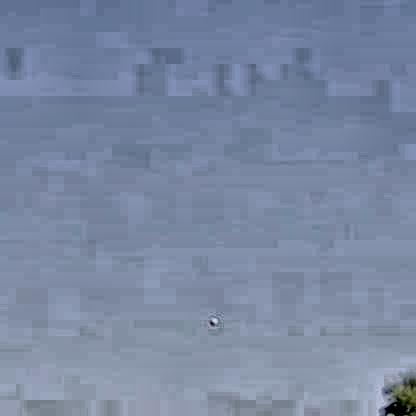golfball: (207, 315, 216, 324)
